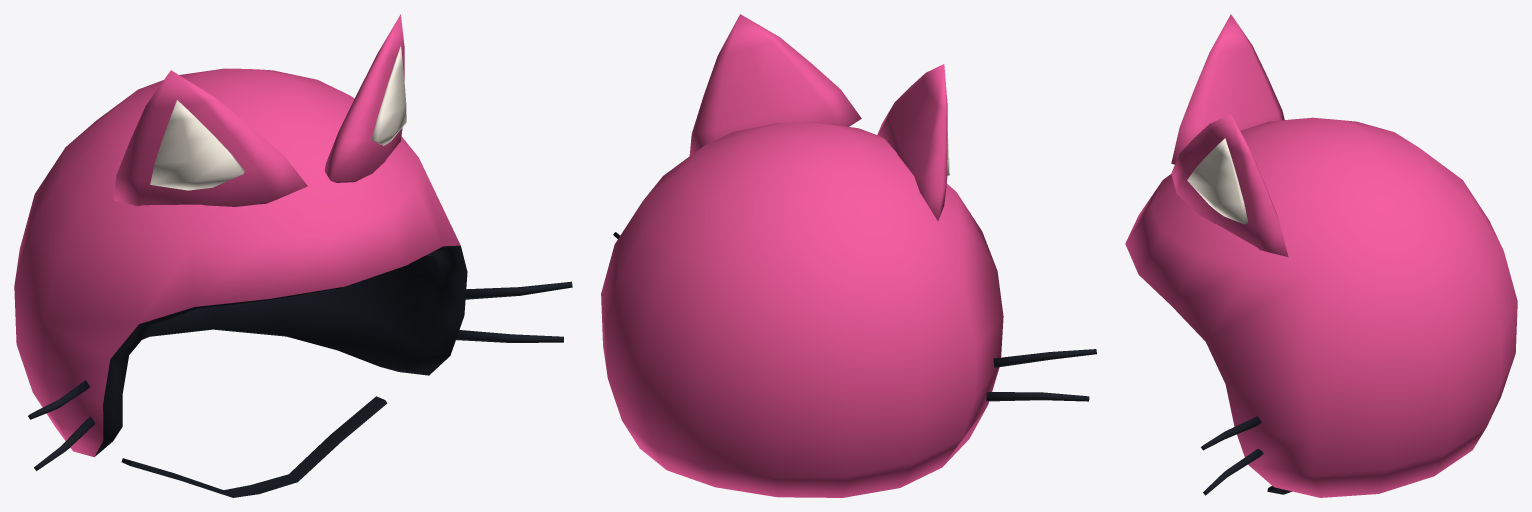
Rendered from helmet_cat.glb.
3 renders of one model, left to right at view 1: azimuth 30°, elevation 25°; view 2: azimuth 150°, elevation 25°; view 3: azimuth 270°, elevation 25°, orthographic. The views are drawn at different scales.
Visible parts, largest first — view 1: helmet_cat; view 2: helmet_cat; view 3: helmet_cat.
Boxes of the visible parts, box(x1,y1,x2,y2) form: helmet_cat: box(14, 14, 572, 497); helmet_cat: box(601, 14, 1096, 497); helmet_cat: box(1125, 14, 1517, 497).
Size of the model in its own units: 0.5831 by 0.4844 by 0.4077.
